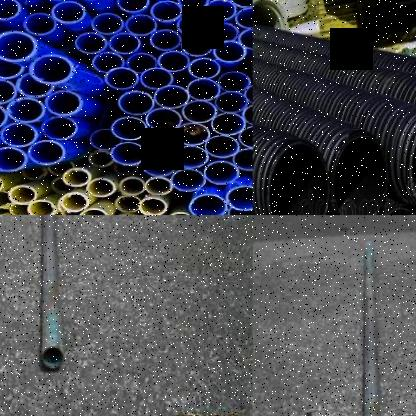pipe: (332, 134, 388, 215), (268, 141, 329, 215), (29, 54, 74, 84), (252, 0, 289, 33), (0, 30, 38, 62), (16, 72, 54, 98), (45, 90, 83, 116), (27, 139, 65, 165), (7, 98, 46, 122), (0, 123, 39, 147), (118, 91, 155, 115), (154, 85, 190, 109), (146, 108, 182, 131), (42, 117, 78, 140), (111, 117, 147, 140), (204, 135, 240, 158), (51, 1, 86, 24), (140, 67, 175, 90), (105, 67, 140, 90), (211, 113, 246, 136), (204, 162, 239, 185), (175, 123, 211, 145), (142, 132, 178, 154), (183, 100, 217, 123), (112, 142, 146, 165), (189, 194, 226, 215), (171, 169, 206, 191), (24, 13, 57, 36), (89, 128, 123, 150), (143, 155, 177, 177), (91, 12, 123, 35), (182, 34, 214, 57), (150, 0, 183, 22), (214, 40, 247, 62), (188, 57, 221, 79), (218, 71, 251, 93), (215, 92, 249, 113), (75, 32, 107, 54), (109, 32, 141, 54), (225, 186, 253, 211), (92, 52, 125, 73), (187, 79, 220, 100), (150, 29, 181, 51), (203, 0, 237, 20), (158, 51, 190, 72), (126, 15, 157, 36), (0, 146, 26, 171), (177, 15, 209, 35), (207, 23, 239, 43), (60, 192, 89, 213), (127, 53, 157, 73), (0, 54, 25, 78), (86, 178, 117, 197), (8, 185, 37, 205), (137, 197, 168, 215), (119, 176, 146, 196), (63, 168, 91, 187), (42, 346, 64, 370), (27, 199, 57, 215), (232, 149, 253, 171), (0, 79, 18, 104), (145, 178, 173, 194), (51, 177, 77, 194), (0, 0, 21, 20), (88, 151, 114, 167), (115, 196, 141, 212), (116, 0, 149, 12), (48, 162, 76, 176), (236, 7, 252, 29), (178, 0, 210, 11), (22, 168, 48, 180), (238, 28, 252, 50), (238, 126, 252, 148), (114, 164, 138, 175), (9, 204, 30, 215), (0, 191, 12, 209), (0, 103, 8, 129), (243, 104, 252, 126), (227, 208, 253, 215), (228, 0, 253, 7), (78, 209, 107, 215), (245, 83, 252, 104), (0, 174, 4, 194)
